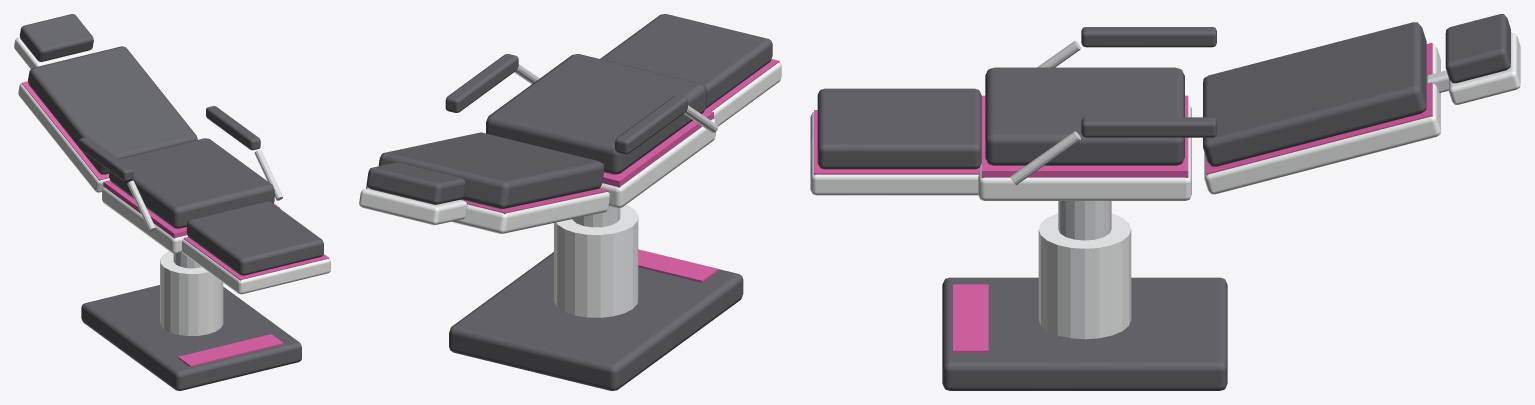
File: tattoo-and-piercing-studio-tattoo-chair-reclined-d0d96ca0__34516.glb
3 views of the same model, side by side, from view 1: azimuth 30°, elevation 25°; view 2: azimuth 150°, elevation 25°; view 3: azimuth 270°, elevation 25° (orthographic). The views are drawn at different scales.
Visible parts, largest first — view 1: tattoo-chair-reclined, chair-back-pad, headrest-pad, chair-back, chair-back-piping, headrest-shell; view 2: tattoo-chair-reclined, chair-back-pad, chair-back, headrest-pad, headrest-shell, chair-back-piping; view 3: tattoo-chair-reclined, chair-back-pad, chair-back, headrest-pad, headrest-shell, chair-back-piping.
Part boxes in pixels (left/top/right/bottom): tattoo-chair-reclined: left=78, top=106, right=330, bottom=390; chair-back-pad: left=28, top=46, right=197, bottom=174; headrest-pad: left=19, top=14, right=93, bottom=61; chair-back: left=18, top=83, right=109, bottom=192; chair-back-piping: left=21, top=81, right=109, bottom=180; headrest-shell: left=14, top=37, right=94, bottom=68; tattoo-chair-reclined: left=445, top=14, right=781, bottom=390; chair-back-pad: left=378, top=132, right=604, bottom=209; chair-back: left=366, top=184, right=609, bottom=233; headrest-pad: left=366, top=162, right=465, bottom=204; headrest-shell: left=359, top=188, right=467, bottom=225; chair-back-piping: left=460, top=188, right=608, bottom=214; tattoo-chair-reclined: left=810, top=27, right=1227, bottom=390; chair-back-pad: left=1203, top=22, right=1426, bottom=166; chair-back: left=1204, top=44, right=1440, bottom=194; headrest-pad: left=1445, top=14, right=1510, bottom=83; headrest-shell: left=1449, top=32, right=1520, bottom=104; chair-back-piping: left=1206, top=43, right=1432, bottom=175.
Bounding box in the file's own units: 0.6501 × 0.9826 × 1.99.
